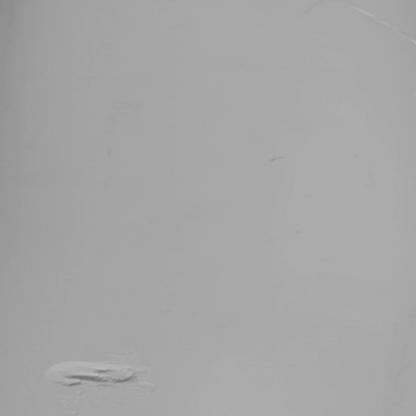sunshang: (46, 359, 140, 389), (350, 3, 416, 43)
